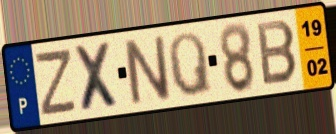8: (218, 20, 258, 96)
B: (255, 19, 301, 89)
N: (120, 33, 174, 108)
Q: (166, 30, 215, 99)
X: (71, 39, 124, 114)
Z: (34, 46, 79, 119)
